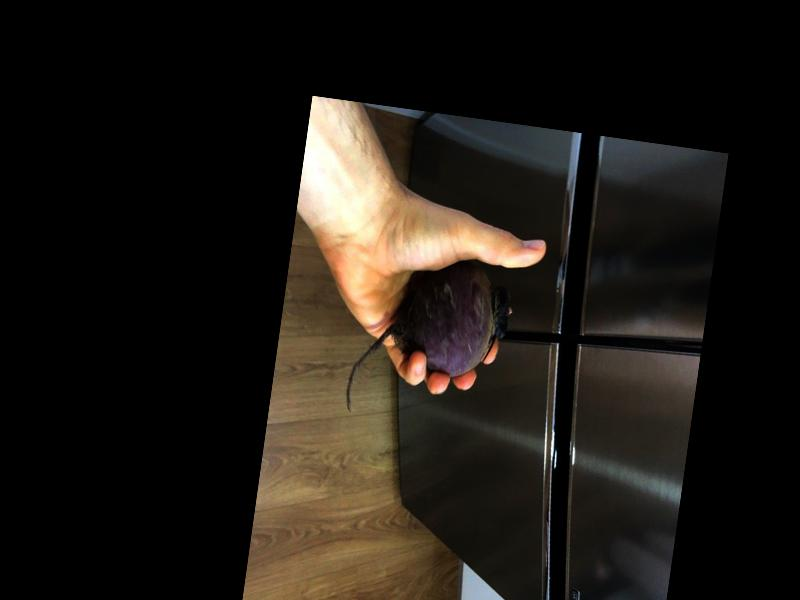Beet: (345, 246, 517, 432)
